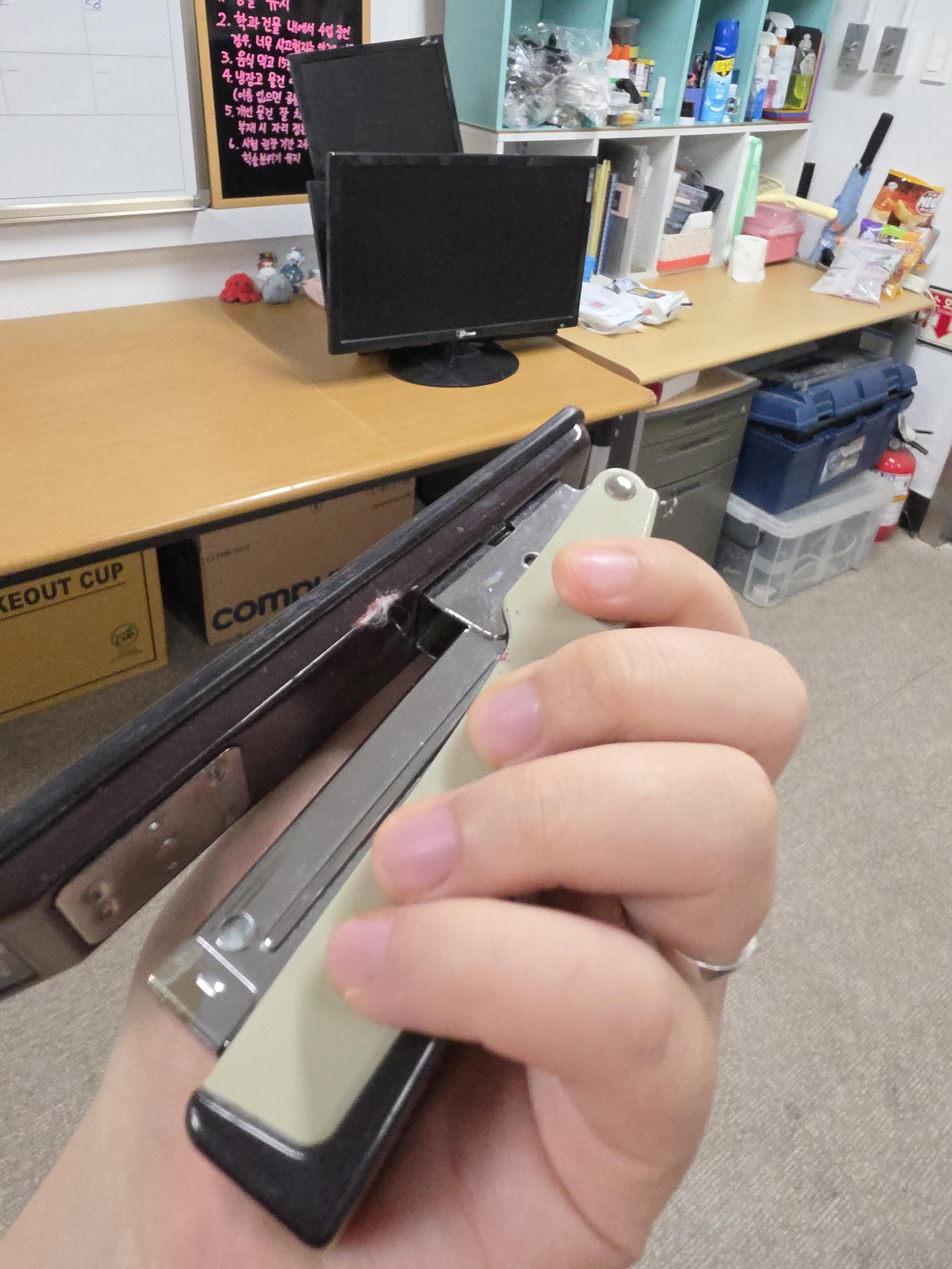stapler: (0, 404, 659, 1247)
tissue: (657, 210, 715, 273), (730, 235, 767, 284)
